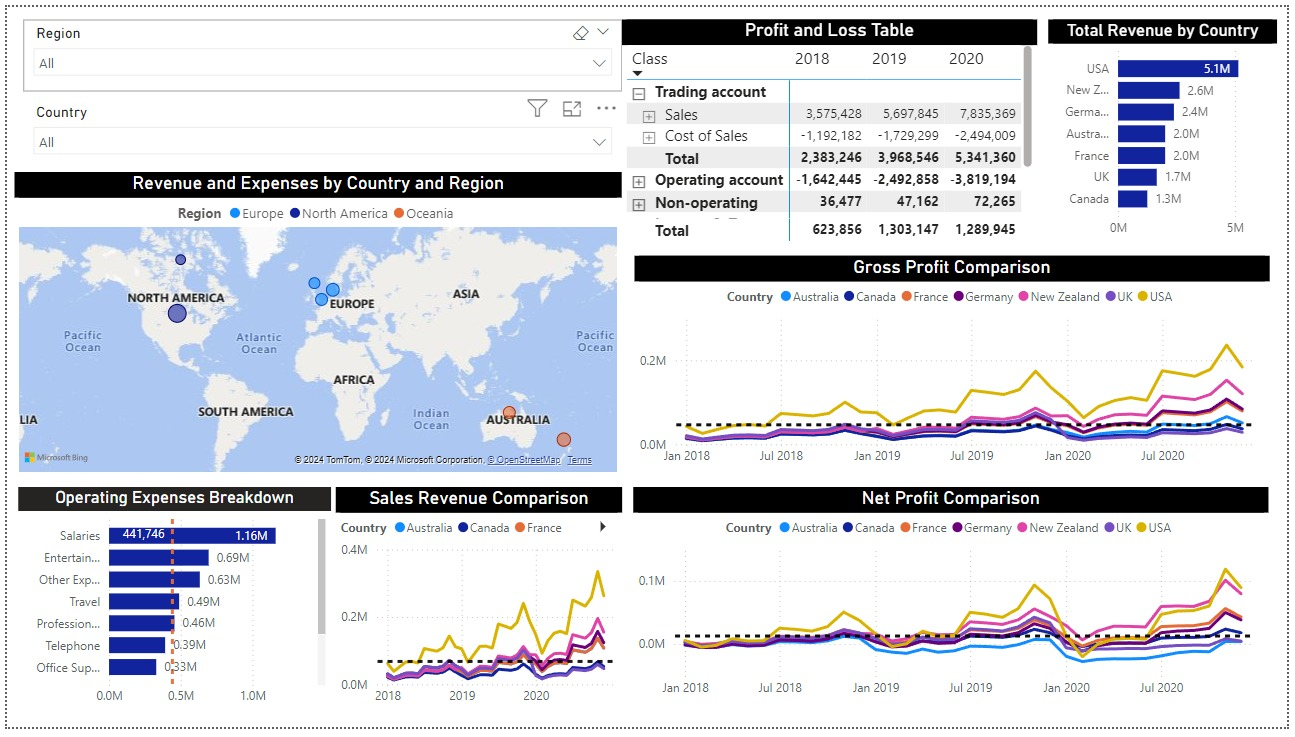

Layout of this report page (visuals, bound fields, positions):
{"tool":"powerbi","page":{"name":"Country Comparison","canvas":[1280,720],"ordinal":1},"visuals":[{"type":"lineChart","title":"Sales Revenue Comparison","fields":{"Category":["Calendar.Date.Variation.Date Hierarchy.Year","Calendar.Date.Variation.Date Hierarchy.Quarter","Calendar.Date.Variation.Date Hierarchy.Month","Calendar.Date.Variation.Date Hierarchy.Day"],"Series":["Territory.Country"],"Y":["GL.Average Sales Revenue"]},"box":[328.8,480,286.2,227.5],"z":0},{"type":"lineChart","title":"Gross Profit Comparison","fields":{"Y":["Sum(GL.Amount)"],"Category":["Calendar.Date.Variation.Date Hierarchy.Year","Calendar.Date.Variation.Date Hierarchy.Quarter","Calendar.Date.Variation.Date Hierarchy.Month","Calendar.Date.Variation.Date Hierarchy.Day"],"Series":["Territory.Country"]},"box":[627.5,248.8,635,218.8],"z":1000},{"type":"lineChart","title":"Net Profit Comparison","fields":{"Y":["Sum(GL.Amount)"],"Category":["Calendar.Date.Variation.Date Hierarchy.Year","Calendar.Date.Variation.Date Hierarchy.Quarter","Calendar.Date.Variation.Date Hierarchy.Month","Calendar.Date.Variation.Date Hierarchy.Day"],"Series":["Territory.Country"]},"box":[626.2,480,635,218.8],"z":2000},{"type":"slicer","fields":{"Values":["Territory.Country"]},"box":[16.2,91.2,598.8,66.2],"z":3000},{"type":"slicer","fields":{"Values":["Territory.Region"]},"box":[16.2,12.5,598.8,72.5],"z":4000},{"type":"map","title":"Revenue and Expenses by Country and Region","fields":{"Category":["Territory.Country"],"Series":["Territory.Region"],"Size":["GL.Sales Revenue"]},"box":[7.5,165,607.5,305],"z":5000},{"type":"clusteredBarChart","title":"Operating Expenses Breakdown","fields":{"Y":["GL.Operating Expenses"],"Category":["Chart of Accounts.SubAccount"]},"box":[11.2,480,312.5,227.5],"z":7000},{"type":"pivotTable","title":"Profit and Loss Table","fields":{"Values":["GL.Total_FTP"],"Rows":["Chart of Accounts.Class","Chart of Accounts.SubClass","Chart of Accounts.SubClass2","Chart of Accounts.Account"],"Columns":["Calendar.Date.Variation.Date Hierarchy.Year","Calendar.Date.Variation.Date Hierarchy.Quarter","Calendar.Date.Variation.Date Hierarchy.Month","Calendar.Date.Variation.Date Hierarchy.Day"]},"box":[615,12.5,415,226.2],"z":7001},{"type":"clusteredBarChart","title":"Total Revenue by Country","fields":{"Y":["GL.Sales Revenue"],"Category":["Territory.Country"]},"box":[1041.2,12.5,228.8,226.2],"z":7002}]}

Visuals, with their boxes in screenshot pixels (x1, y1, x2, y2), scaled from the page's 1280x720 canvas onto the 1295x737 screenshot:
"Sales Revenue Comparison" lineChart: {"x1": 333, "y1": 491, "x2": 622, "y2": 724}
"Gross Profit Comparison" lineChart: {"x1": 635, "y1": 255, "x2": 1277, "y2": 479}
"Net Profit Comparison" lineChart: {"x1": 634, "y1": 491, "x2": 1276, "y2": 715}
slicer - Territory.Country: {"x1": 16, "y1": 93, "x2": 622, "y2": 161}
slicer - Territory.Region: {"x1": 16, "y1": 13, "x2": 622, "y2": 87}
"Revenue and Expenses by Country and Region" map: {"x1": 8, "y1": 169, "x2": 622, "y2": 481}
"Operating Expenses Breakdown" clusteredBarChart: {"x1": 11, "y1": 491, "x2": 327, "y2": 724}
"Profit and Loss Table" pivotTable: {"x1": 622, "y1": 13, "x2": 1042, "y2": 244}
"Total Revenue by Country" clusteredBarChart: {"x1": 1053, "y1": 13, "x2": 1285, "y2": 244}
